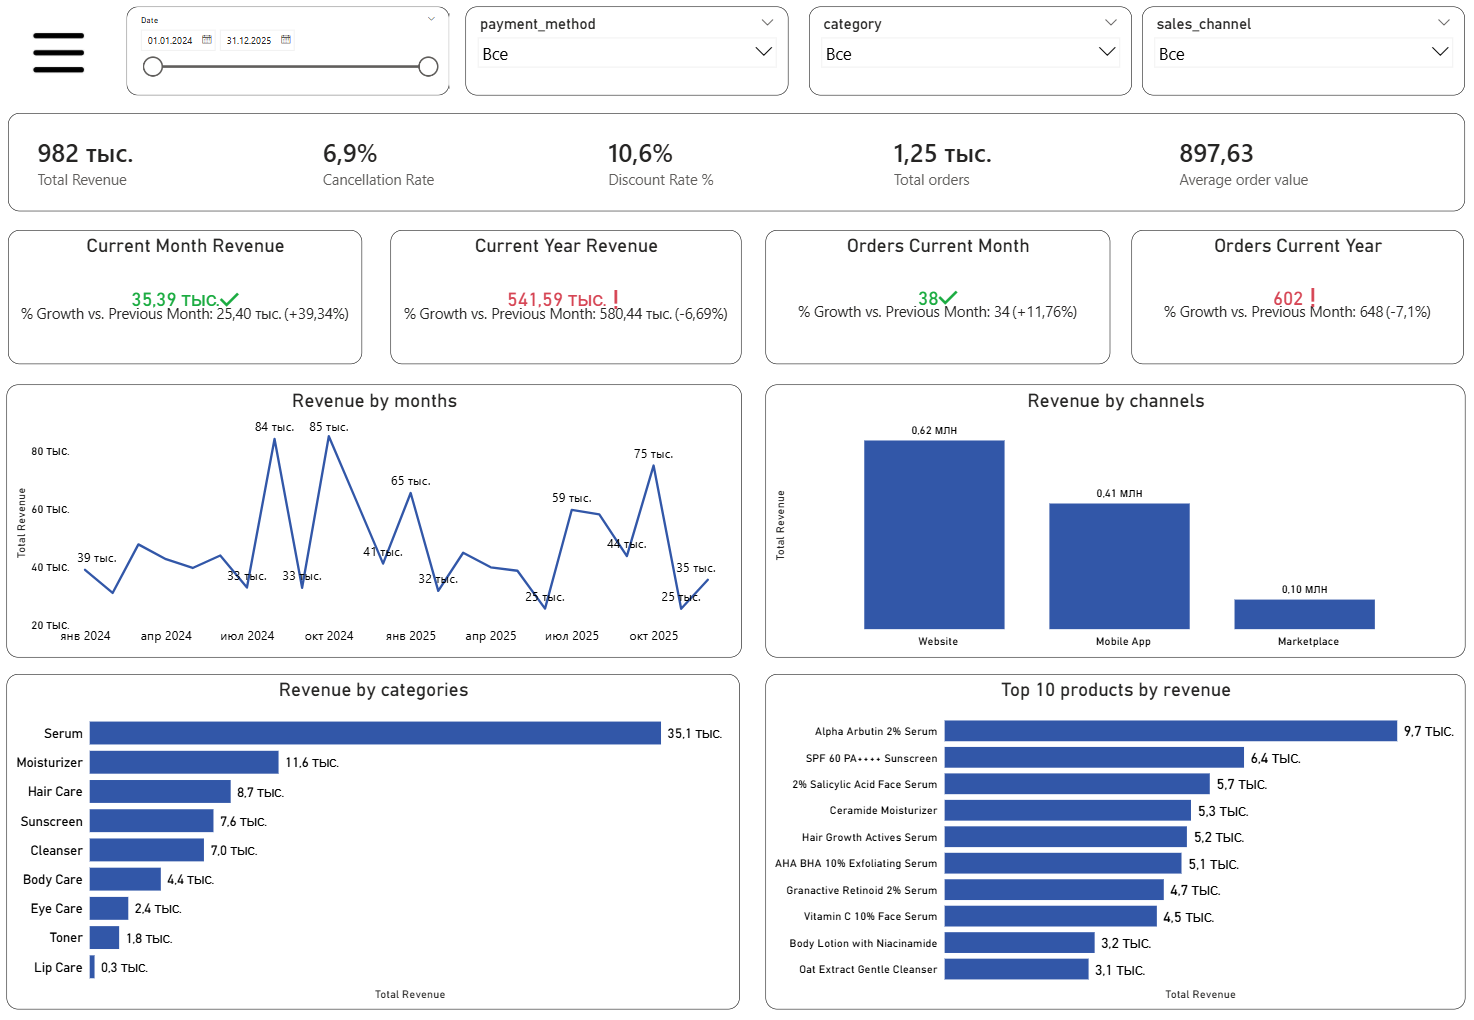

What the dashboard file says about the page in this screenshot:
{"tool":"powerbi","page":{"name":"Sales","canvas":[1920,1440],"ordinal":0},"visuals":[{"type":"cardVisual","fields":{"Data":["Orders.Delivired Gross SUM","Orders.Cancellation Rate","Orders.Discount Rate %","CountNonNull(Orders.order_id)","Orders.Average order value"]},"box":[26,158,1868,126],"z":0},{"type":"lineChart","title":"Revenue by months","fields":{"Category":["Calendar.Date.Изменение.Иерархия дат.Год","Calendar.Date.Изменение.Иерархия дат.Месяц"],"Y":["Orders.SUM final_amount"]},"box":[25,505,942.5,350],"z":1000},{"type":"columnChart","title":"Revenue by Channels","fields":{"Category":["Orders.sales_channel"],"Y":["Orders.Total Revenue"]},"box":[997.5,505,897.5,350],"z":2000},{"type":"barChart","title":"Revenue by Categories","fields":{"Category":["Products.category"],"Y":["Orders.Total Revenue"]},"box":[25,877.5,940,430],"z":3000},{"type":"barChart","title":"Top 10 products by Revenue","fields":{"Category":["Products.product_name"],"Y":["Orders.SUM final_amount"]},"box":[997.5,877.5,897.5,430],"z":4000},{"type":"slicer","fields":{"Values":["Orders.payment_method"]},"box":[614,22,414,114],"z":5000},{"type":"kpi","title":"Current Month Revenue","fields":{"Indicator":["Orders.Revenue Current Month"],"Goal":["Orders.Revenue Previous Month"],"TrendLine":["Orders.order_date"]},"box":[26,308,454,172],"z":6000},{"type":"kpi","title":"Orders Current Year","fields":{"TrendLine":["Orders.order_date"],"Indicator":["Orders.Orders Current Year"],"Goal":["Orders.Orders Previous Year"]},"box":[1468,308,426,172],"z":7000},{"type":"slicer","fields":{"Values":["Products.category"]},"box":[1054,22,414,114],"z":8000},{"type":"slicer","fields":{"Values":["Orders.sales_channel"]},"box":[1480,22,414,114],"z":9000},{"type":"kpi","title":"Current Year Revenue","fields":{"Goal":["Orders.Revenue Previous Year"],"TrendLine":["Orders.order_date"],"Indicator":["Orders.Revenue Current Year"]},"box":[518,308,450,172],"z":10000},{"type":"kpi","title":"Orders Current Month","fields":{"TrendLine":["Orders.order_date"],"Indicator":["Orders.Orders Current Month"],"Goal":["Orders.Orders Previous Month"]},"box":[998,308,442,172],"z":11000},{"type":"slicer","fields":{"Values":["Calendar.Date"]},"box":[178,22,414,114],"z":12000},{"type":"image","box":[26,34,132,90],"z":13000},{"type":"actionButton","box":[1566,1308,100,40],"z":14000},{"type":"group","id":"g1","title":"Группа 1","box":[28,22,232,482],"z":15000}]}

Visuals, with their boxes on the page's 1920x1440 design canvas (x1, y1, x2, y2). These are canvas units, not pixel positions in the 1474x1020 screenshot, which may show the page scaled, cropped or inside an application window:
cardVisual - Orders.Delivired Gross SUM x Orders.Cancellation Rate: l=26, t=158, r=1894, b=284
"Revenue by months" lineChart: l=25, t=505, r=968, b=855
"Revenue by Channels" columnChart: l=998, t=505, r=1895, b=855
"Revenue by Categories" barChart: l=25, t=878, r=965, b=1308
"Top 10 products by Revenue" barChart: l=998, t=878, r=1895, b=1308
slicer - Orders.payment_method: l=614, t=22, r=1028, b=136
"Current Month Revenue" kpi: l=26, t=308, r=480, b=480
"Orders Current Year" kpi: l=1468, t=308, r=1894, b=480
slicer - Products.category: l=1054, t=22, r=1468, b=136
slicer - Orders.sales_channel: l=1480, t=22, r=1894, b=136
"Current Year Revenue" kpi: l=518, t=308, r=968, b=480
"Orders Current Month" kpi: l=998, t=308, r=1440, b=480
slicer - Calendar.Date: l=178, t=22, r=592, b=136
image: l=26, t=34, r=158, b=124
actionButton: l=1566, t=1308, r=1666, b=1348
"Группа 1" group: l=28, t=22, r=260, b=504
